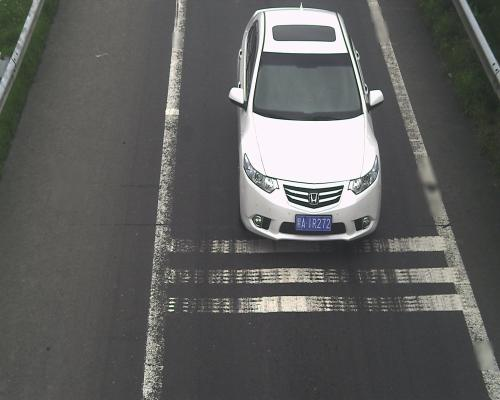Carplate: (292, 207, 337, 238)
